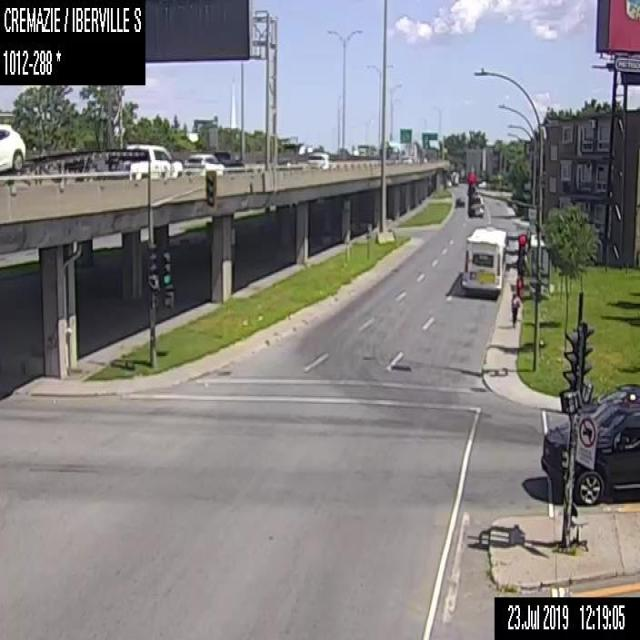bus: (460, 224, 507, 292)
pedestrian: (510, 292, 519, 327)
vehicle: (0, 120, 182, 185), (539, 404, 639, 504), (571, 381, 639, 424), (0, 121, 26, 173), (183, 152, 226, 174), (214, 149, 244, 171), (306, 150, 329, 168), (472, 193, 483, 216), (356, 143, 369, 155), (456, 196, 464, 207)
